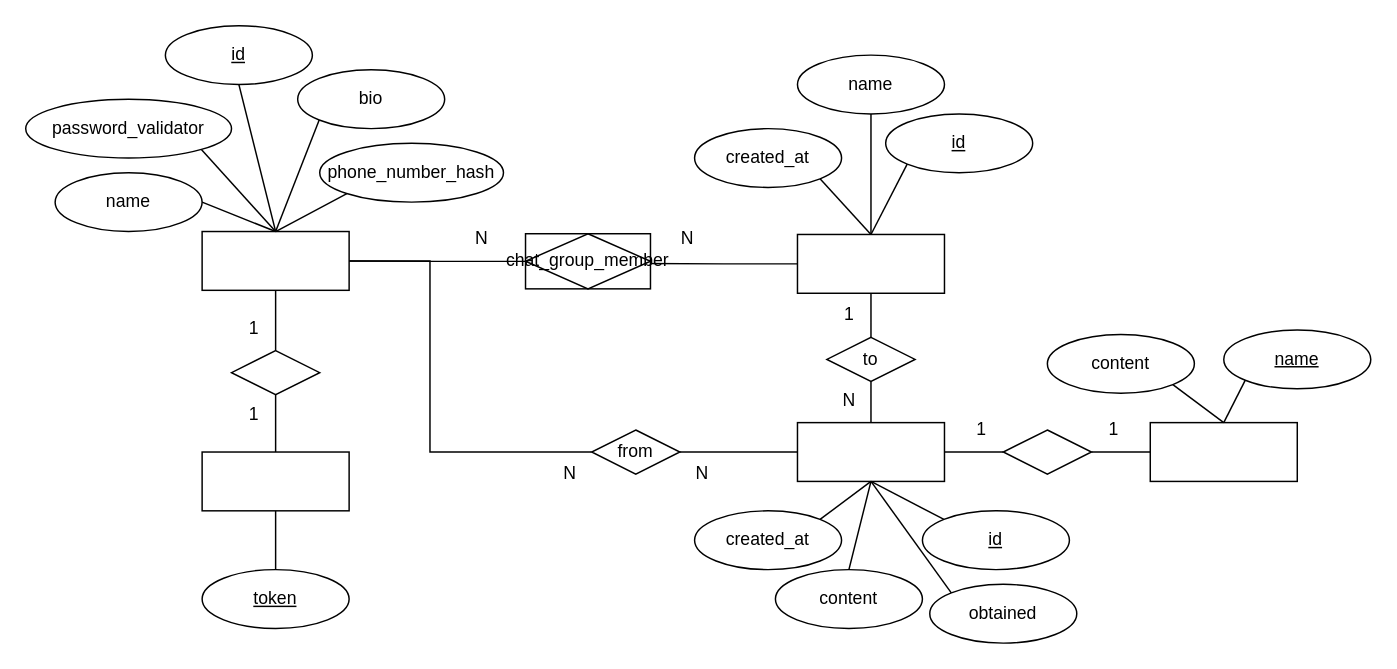
Image size: 1397x669. Some labels were removed from this diagram. Here are the shapes that lost their labels. From the top down, the box of each, then its label:
(201, 230, 349, 290): user_info
(796, 233, 944, 293): chat_group
(796, 421, 944, 481): message
(1149, 421, 1297, 481): template
(201, 451, 349, 511): user_token
